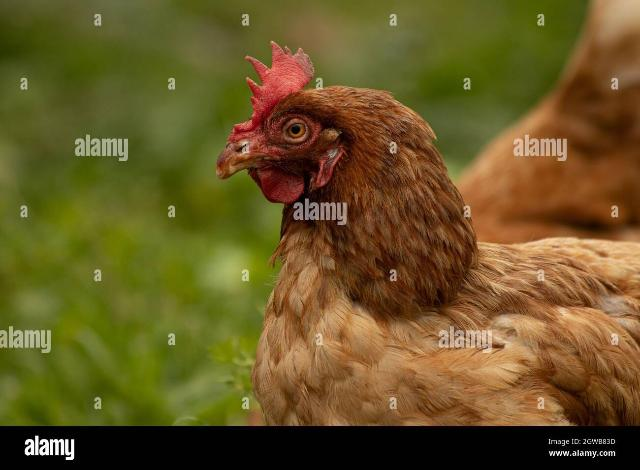Chicken: (215, 41, 640, 427)
